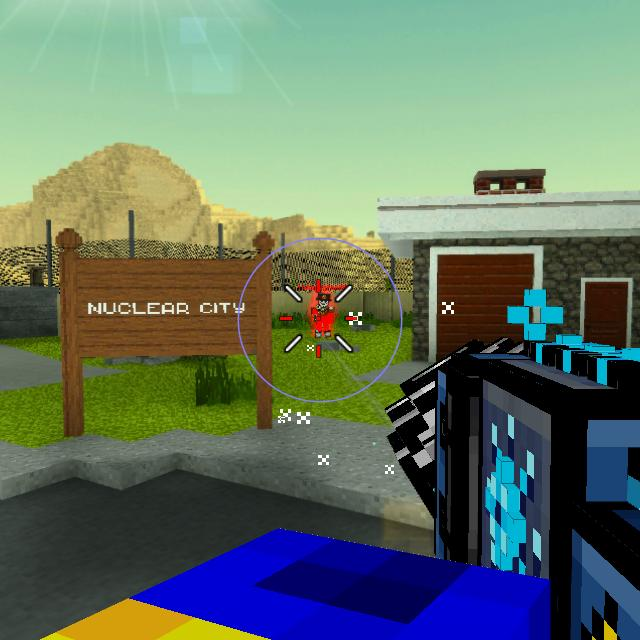Enemy: (311, 294, 334, 339)
